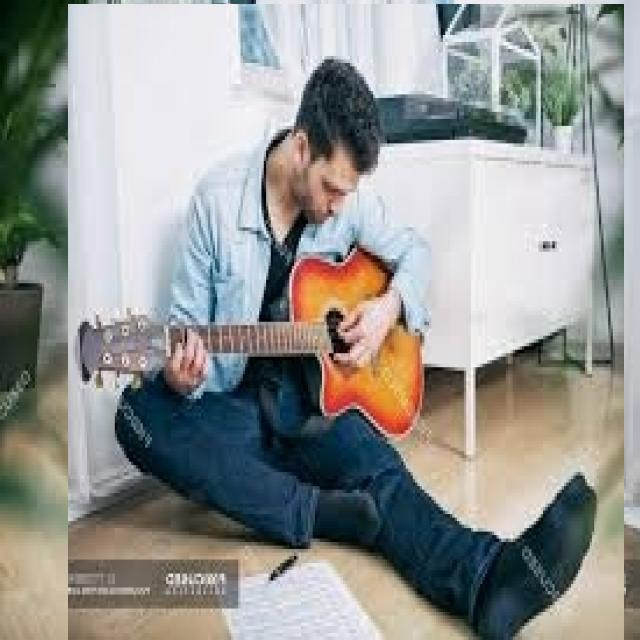NotFall: (155, 94, 586, 622)
